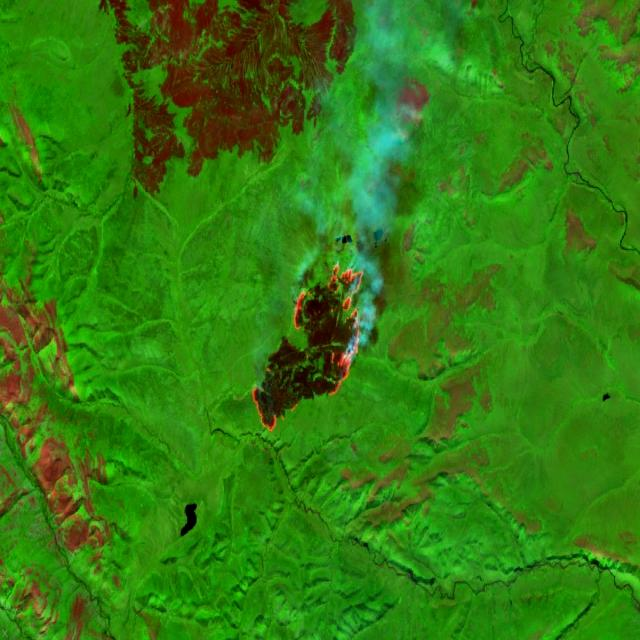fire: (249, 256, 368, 439)
